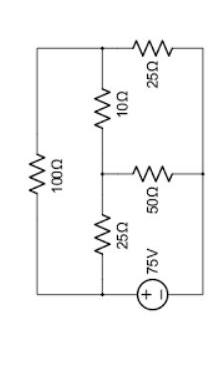resistor: (20, 143, 51, 204), (125, 29, 185, 59), (125, 155, 181, 182), (84, 204, 112, 258), (87, 75, 110, 133)
